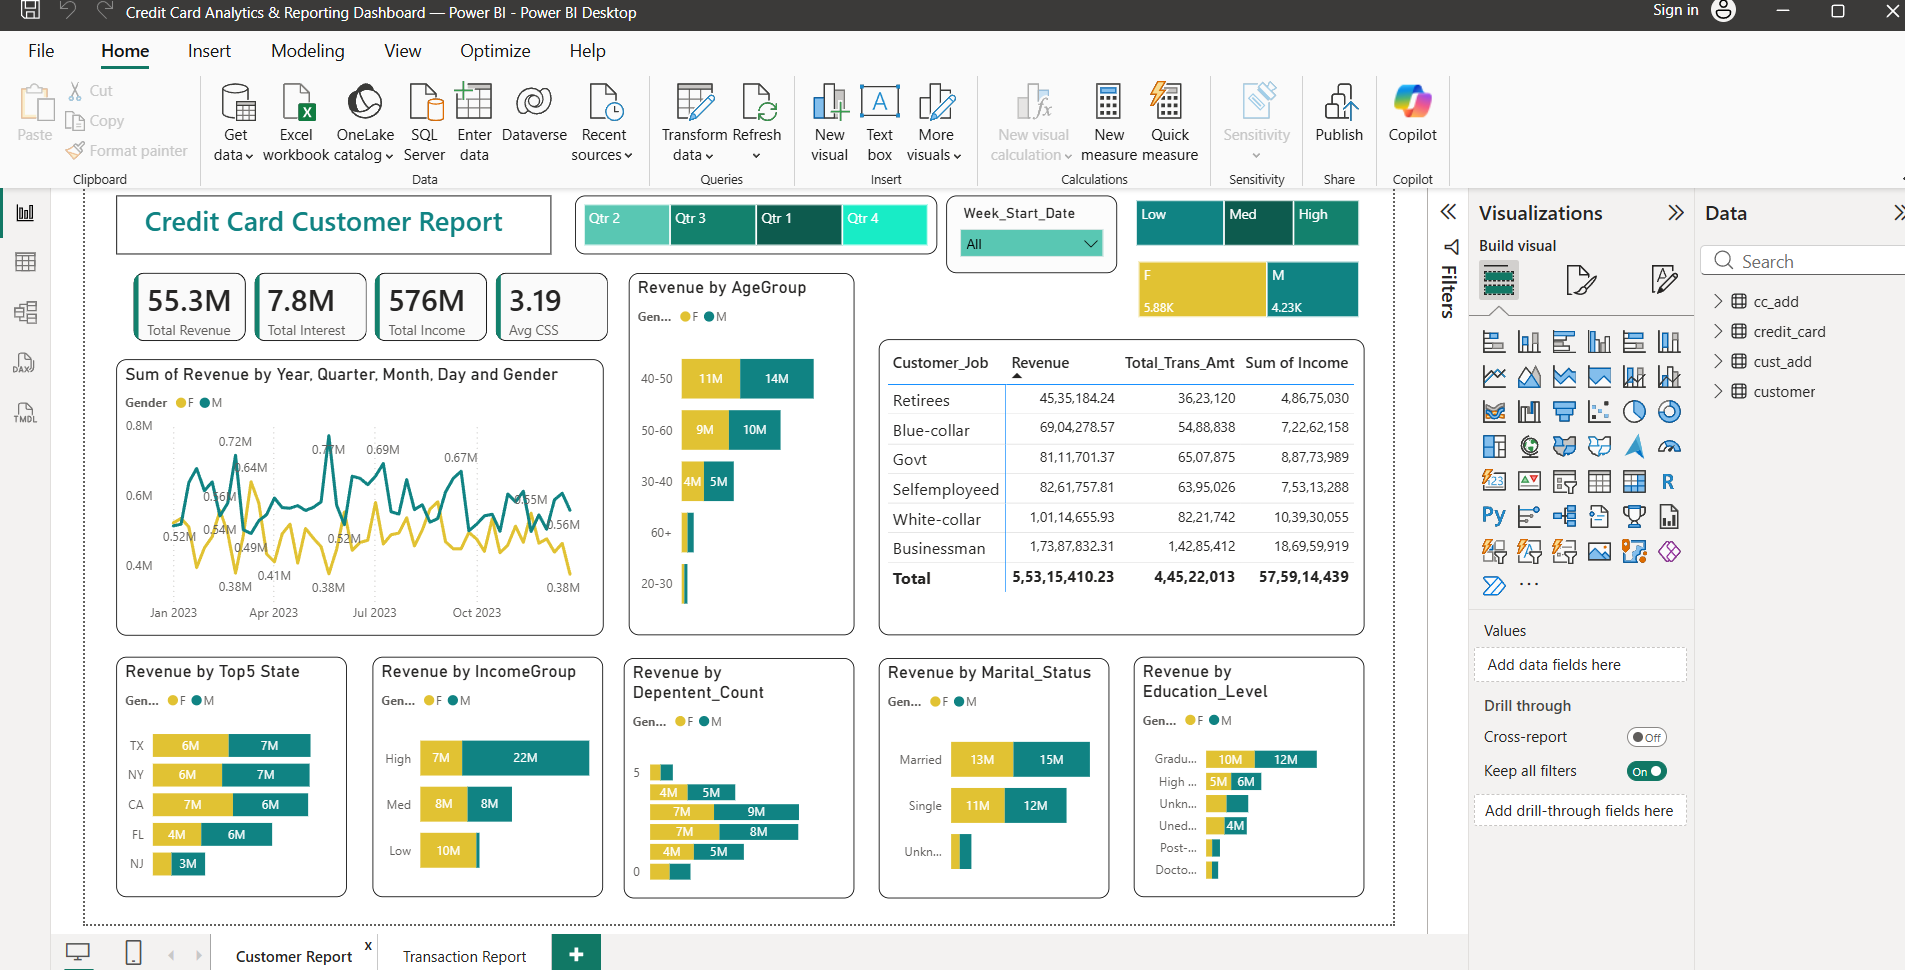

What the dashboard file says about the page in this screenshot:
{"tool":"powerbi","page":{"name":"Customer Report","canvas":[1280,720],"ordinal":0},"visuals":[{"type":"cardVisual","fields":{"Data":["Sum(credit_card.Revenue)","Sum(credit_card.Interest_Earned)","Sum(customer.Income)","Avg(customer.Cust_Satisfaction_Score)"]},"box":[30.2,66.4,501.3,101.2],"z":0},{"type":"treemap","fields":{"Group":["credit_card.Week_Start_Date.Variation.Date Hierarchy.Quarter"],"Values":["CountNonNull(credit_card.Client_Num)"]},"box":[478.8,7.6,354.1,58],"z":1000},{"type":"pivotTable","fields":{"Values":["Sum(credit_card.Revenue)","Sum(credit_card.Total_Trans_Amt)","Sum(customer.Income)"],"Rows":["customer.Customer_Job"]},"box":[776.2,147.4,475.1,289.8],"z":2000},{"type":"slicer","fields":{"Values":["credit_card.Week_Start_Date"]},"box":[843,7.6,167.6,75.6],"z":3000},{"type":"barChart","title":"Revenue by Top5 State","fields":{"Y":["Sum(credit_card.Revenue)"],"Category":["customer.state_cd"],"Series":["customer.Gender"]},"box":[30.2,459,225.6,235.6],"z":3000,"group":"g1"},{"type":"textbox","box":[30.2,7.6,425.9,58],"z":4000},{"type":"barChart","title":"Revenue by Marital_Status","fields":{"Y":["Sum(credit_card.Revenue)"],"Category":["customer.Marital_Status"],"Series":["customer.Gender"]},"box":[776.4,460.5,225.6,235.6],"z":4000,"group":"g1"},{"type":"treemap","fields":{"Values":["CountNonNull(credit_card.Client_Num)"],"Group":["customer.Gender"]},"box":[1025.7,66.8,225.6,64.3],"z":5000},{"type":"barChart","title":"Revenue by IncomeGroup","fields":{"Y":["Sum(credit_card.Revenue)"],"Category":["customer.IncomeGroup"],"Series":["customer.Gender"]},"box":[281,459,225.6,235.6],"z":5000,"group":"g1"},{"type":"barChart","title":"Revenue by Depentent_Count","fields":{"Y":["Sum(credit_card.Revenue)"],"Category":["customer.Dependent_Count"],"Series":["customer.Gender"]},"box":[526.8,460.5,225.6,235.6],"z":6000,"group":"g1"},{"type":"treemap","fields":{"Values":["CountNonNull(credit_card.Client_Num)"],"Group":["customer.IncomeGroup"]},"box":[1023.2,7.6,228.1,54.2],"z":7000},{"type":"barChart","title":"Revenue by AgeGroup","fields":{"Category":["customer.AgeGroup"],"Y":["Sum(credit_card.Revenue)"],"Series":["customer.Gender"]},"box":[531.8,83.2,220.5,354.1],"z":8000},{"type":"barChart","title":"Revenue by Education_Level","fields":{"Y":["Sum(credit_card.Revenue)"],"Category":["customer.Education_Level"],"Series":["customer.Gender"]},"box":[1026,459,225.6,235.6],"z":8000,"group":"g1"},{"type":"lineChart","fields":{"Y":["Sum(credit_card.Revenue)"],"Series":["customer.Gender"],"Category":["credit_card.Week_Start_Date.Variation.Date Hierarchy.Year","credit_card.Week_Start_Date.Variation.Date Hierarchy.Quarter","credit_card.Week_Start_Date.Variation.Date Hierarchy.Month","credit_card.Week_Start_Date.Variation.Date Hierarchy.Day"]},"box":[30.2,167.6,477.1,270.3],"z":9000},{"type":"group","id":"g1","title":"Group 1","box":[30.2,459,1221.4,237],"z":10000}]}

Visuals, with their boxes on the page's 1280x720 design canvas (x1, y1, x2, y2). These are canvas units, not pixel positions in the 1905x970 screenshot, which may show the page scaled, cropped or inside an application window:
cardVisual - Sum(credit_card.Revenue) x Sum(credit_card.Interest_Earned): region(30, 66, 532, 168)
treemap - credit_card.Week_Start_Date.Variation.Date Hierarchy.Quarter x CountNonNull(credit_card.Client_Num): region(479, 8, 833, 66)
pivotTable - Sum(credit_card.Revenue) x Sum(credit_card.Total_Trans_Amt): region(776, 147, 1251, 437)
slicer - credit_card.Week_Start_Date: region(843, 8, 1011, 83)
"Revenue by Top5 State" barChart: region(30, 459, 256, 695)
textbox: region(30, 8, 456, 66)
"Revenue by Marital_Status" barChart: region(776, 460, 1002, 696)
treemap - CountNonNull(credit_card.Client_Num) x customer.Gender: region(1026, 67, 1251, 131)
"Revenue by IncomeGroup" barChart: region(281, 459, 507, 695)
"Revenue by Depentent_Count" barChart: region(527, 460, 752, 696)
treemap - CountNonNull(credit_card.Client_Num) x customer.IncomeGroup: region(1023, 8, 1251, 62)
"Revenue by AgeGroup" barChart: region(532, 83, 752, 437)
"Revenue by Education_Level" barChart: region(1026, 459, 1252, 695)
lineChart - Sum(credit_card.Revenue) x customer.Gender: region(30, 168, 507, 438)
"Group 1" group: region(30, 459, 1252, 696)
